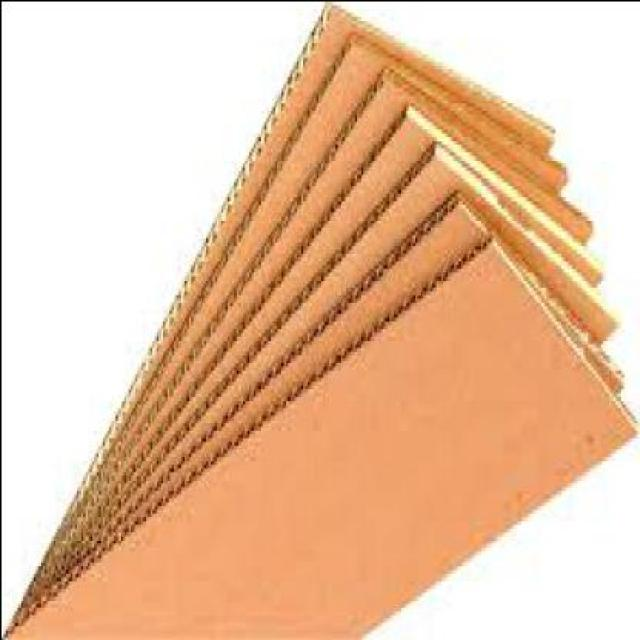CARDBOARD: (1, 3, 557, 639), (2, 37, 569, 638), (2, 76, 596, 638), (2, 143, 626, 632), (2, 196, 626, 638), (1, 240, 638, 638)
